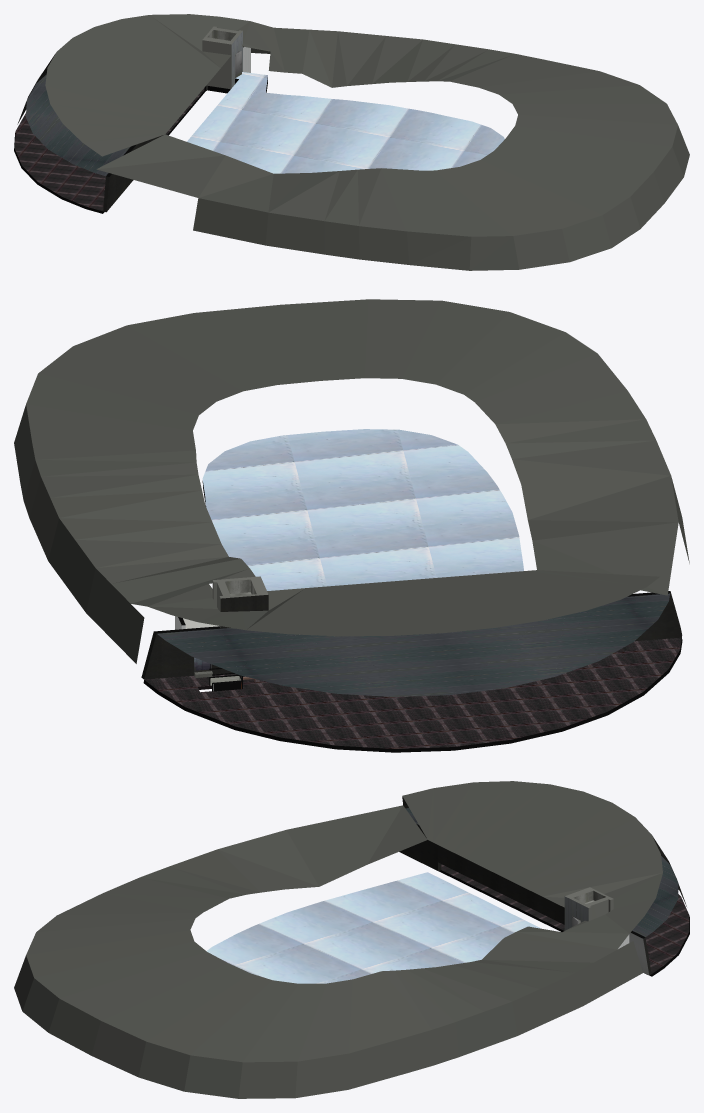
Rendered from 5_F4_창녕문화예술회관.fbx.
3 renders of one model, top to bottom at view 1: azimuth 30°, elevation 25°; view 2: azimuth 150°, elevation 25°; view 3: azimuth 270°, elevation 25°, orthographic. The views are drawn at different scales.
Parts seen in each view (by area): view 1: 벽_콘-M_B0010000000CUFEBOF04F04_ISWL_0000005, 바닥_콘-M_B0010000000CUFEBOF04F04_ISFL_0000003, 바닥_철-M_B0010000000CUFEBOF04F04_ISFL_0000001, 천정_콘-M_B0010000000CUFEBOF04F04_ISCL_0000002, 벽_콘-M_B0010000000CUFEBOF04F04_ISWL_0000001, 벽_콘-M_B0010000000CUFEBOF04F04_ISWL_0000004; view 2: 벽_콘-M_B0010000000CUFEBOF04F04_ISWL_0000005, 바닥_콘-M_B0010000000CUFEBOF04F04_ISFL_0000003, 바닥_철-M_B0010000000CUFEBOF04F04_ISFL_0000001, 천정_콘-M_B0010000000CUFEBOF04F04_ISCL_0000002, 벽_콘-M_B0010000000CUFEBOF04F04_ISWL_0000003, 벽_콘-M_B0010000000CUFEBOF04F04_ISWL_0000001, 벽_콘-M_B0010000000CUFEBOF04F04_ISWL_0000004; view 3: 벽_콘-M_B0010000000CUFEBOF04F04_ISWL_0000005, 바닥_콘-M_B0010000000CUFEBOF04F04_ISFL_0000003, 바닥_철-M_B0010000000CUFEBOF04F04_ISFL_0000001, 벽_콘-M_B0010000000CUFEBOF04F04_ISWL_0000002, 천정_콘-M_B0010000000CUFEBOF04F04_ISCL_0000002, 벽_콘-M_B0010000000CUFEBOF04F04_ISWL_0000001, 벽_콘-M_B0010000000CUFEBOF04F04_ISWL_0000004, 벽_콘-M_B0010000000CUFEBOF04F04_ISWL_0000003.
Part boxes in pixels (x1,y1,x2,y2): 벽_콘-M_B0010000000CUFEBOF04F04_ISWL_0000005: (17, 14, 689, 270); 바닥_콘-M_B0010000000CUFEBOF04F04_ISFL_0000003: (187, 72, 504, 173); 바닥_철-M_B0010000000CUFEBOF04F04_ISFL_0000001: (14, 88, 205, 213); 천정_콘-M_B0010000000CUFEBOF04F04_ISCL_0000002: (26, 74, 130, 175); 벽_콘-M_B0010000000CUFEBOF04F04_ISWL_0000001: (202, 26, 242, 90); 벽_콘-M_B0010000000CUFEBOF04F04_ISWL_0000004: (103, 147, 133, 212); 벽_콘-M_B0010000000CUFEBOF04F04_ISWL_0000005: (14, 299, 689, 663); 바닥_콘-M_B0010000000CUFEBOF04F04_ISFL_0000003: (202, 429, 523, 590); 바닥_철-M_B0010000000CUFEBOF04F04_ISFL_0000001: (143, 637, 682, 752); 천정_콘-M_B0010000000CUFEBOF04F04_ISCL_0000002: (157, 593, 669, 696); 벽_콘-M_B0010000000CUFEBOF04F04_ISWL_0000003: (141, 626, 220, 679); 벽_콘-M_B0010000000CUFEBOF04F04_ISWL_0000001: (212, 576, 268, 673); 벽_콘-M_B0010000000CUFEBOF04F04_ISWL_0000004: (628, 591, 682, 641); 벽_콘-M_B0010000000CUFEBOF04F04_ISWL_0000005: (14, 781, 686, 1098); 바닥_콘-M_B0010000000CUFEBOF04F04_ISFL_0000003: (206, 872, 540, 983); 바닥_철-M_B0010000000CUFEBOF04F04_ISFL_0000001: (438, 864, 689, 976); 벽_콘-M_B0010000000CUFEBOF04F04_ISWL_0000002: (438, 845, 564, 924); 천정_콘-M_B0010000000CUFEBOF04F04_ISCL_0000002: (405, 808, 678, 936); 벽_콘-M_B0010000000CUFEBOF04F04_ISWL_0000001: (564, 887, 613, 930); 벽_콘-M_B0010000000CUFEBOF04F04_ISWL_0000004: (399, 824, 441, 870); 벽_콘-M_B0010000000CUFEBOF04F04_ISWL_0000003: (629, 931, 651, 975).
Size of the model in its own units: 46.62 by 5.85 by 48.85.
Materials: 18 (16 with a texture image).
